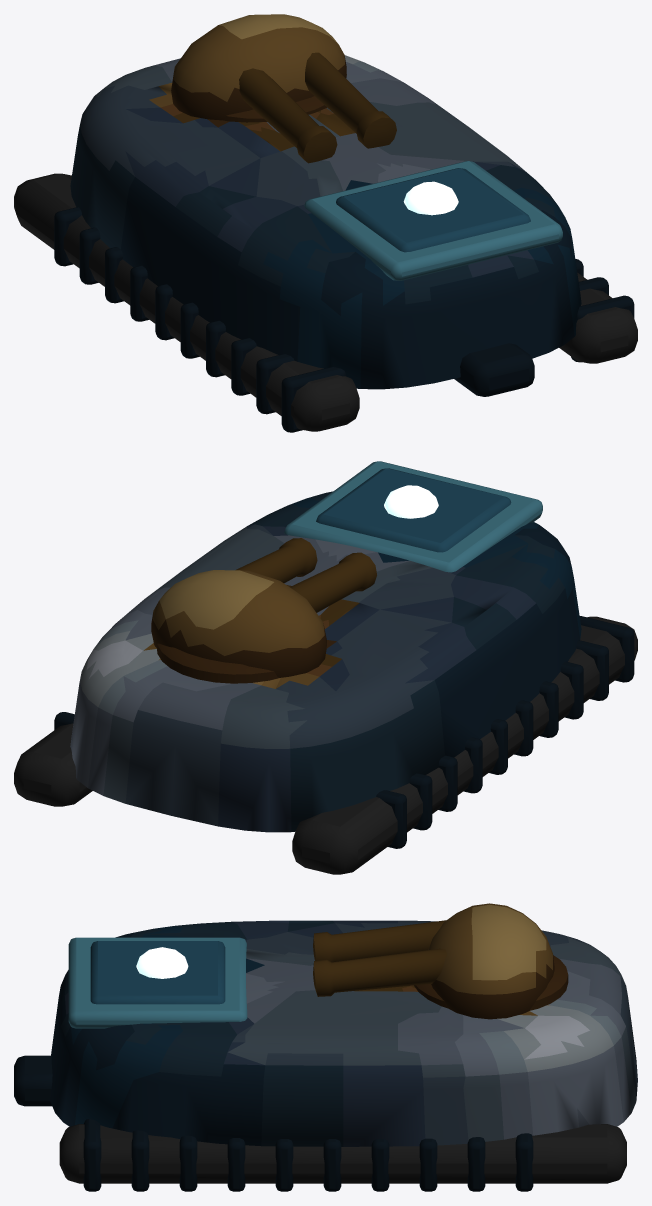
The model's file is crawler_wagon.glb.
3 renders of one model, top to bottom at view 1: azimuth 30°, elevation 25°; view 2: azimuth 150°, elevation 25°; view 3: azimuth 270°, elevation 25°, orthographic. The views are drawn at different scales.
Parts seen in each view (by area): view 1: wagon_hull, wagon_track-1, turret, hatch_rim, hatch, barrel-1.5, barrel1.5, wagon_track1, coupler, lamp, wagon_cleat-1_0, wagon_cleat-1_1 (+10 smaller); view 2: wagon_hull, turret, wagon_track-1, hatch, hatch_rim, wagon_track1, barrel-1.5, turret_ring, barrel1.5, lamp, wagon_cleat-1_0, wagon_cleat-1_1 (+8 smaller); view 3: wagon_hull, wagon_track1, turret, hatch, hatch_rim, barrel1.5, barrel-1.5, coupler, lamp, wagon_cleat1_0, turret_ring, wagon_cleat1_1 (+8 smaller).
Part boxes in pixels (x1,y1,x2,y2): wagon_hull: [70, 55, 581, 389]; wagon_track-1: [14, 173, 359, 431]; turret: [171, 14, 346, 120]; hatch_rim: [304, 161, 562, 280]; hatch: [336, 168, 530, 252]; barrel-1.5: [239, 68, 337, 163]; barrel1.5: [305, 52, 396, 148]; wagon_track1: [559, 272, 637, 363]; coupler: [454, 343, 534, 396]; lamp: [403, 181, 458, 215]; wagon_cleat-1_0: [281, 367, 345, 432]; wagon_cleat-1_1: [256, 354, 294, 414]; wagon_hull: [70, 491, 581, 832]; turret: [151, 570, 326, 677]; wagon_track-1: [292, 616, 637, 874]; hatch: [316, 468, 511, 552]; hatch_rim: [284, 461, 542, 572]; wagon_track1: [14, 723, 92, 806]; barrel-1.5: [290, 552, 376, 612]; turret_ring: [157, 643, 279, 683]; barrel1.5: [235, 538, 317, 583]; lamp: [384, 485, 438, 518]; wagon_cleat-1_0: [579, 616, 634, 682]; wagon_cleat-1_1: [576, 640, 608, 700]; wagon_hull: [50, 920, 637, 1146]; wagon_track1: [59, 1124, 626, 1183]; turret: [428, 903, 554, 1019]; hatch: [90, 941, 225, 1004]; hatch_rim: [68, 937, 247, 1028]; barrel1.5: [313, 948, 446, 996]; barrel-1.5: [313, 920, 445, 962]; coupler: [14, 1055, 52, 1106]; lamp: [136, 947, 188, 978]; wagon_cleat1_0: [83, 1119, 101, 1191]; turret_ring: [414, 955, 568, 1010]; wagon_cleat1_1: [131, 1130, 149, 1191].
Bounding box in the file's own units: 17.5 × 10.2 × 28.6.
